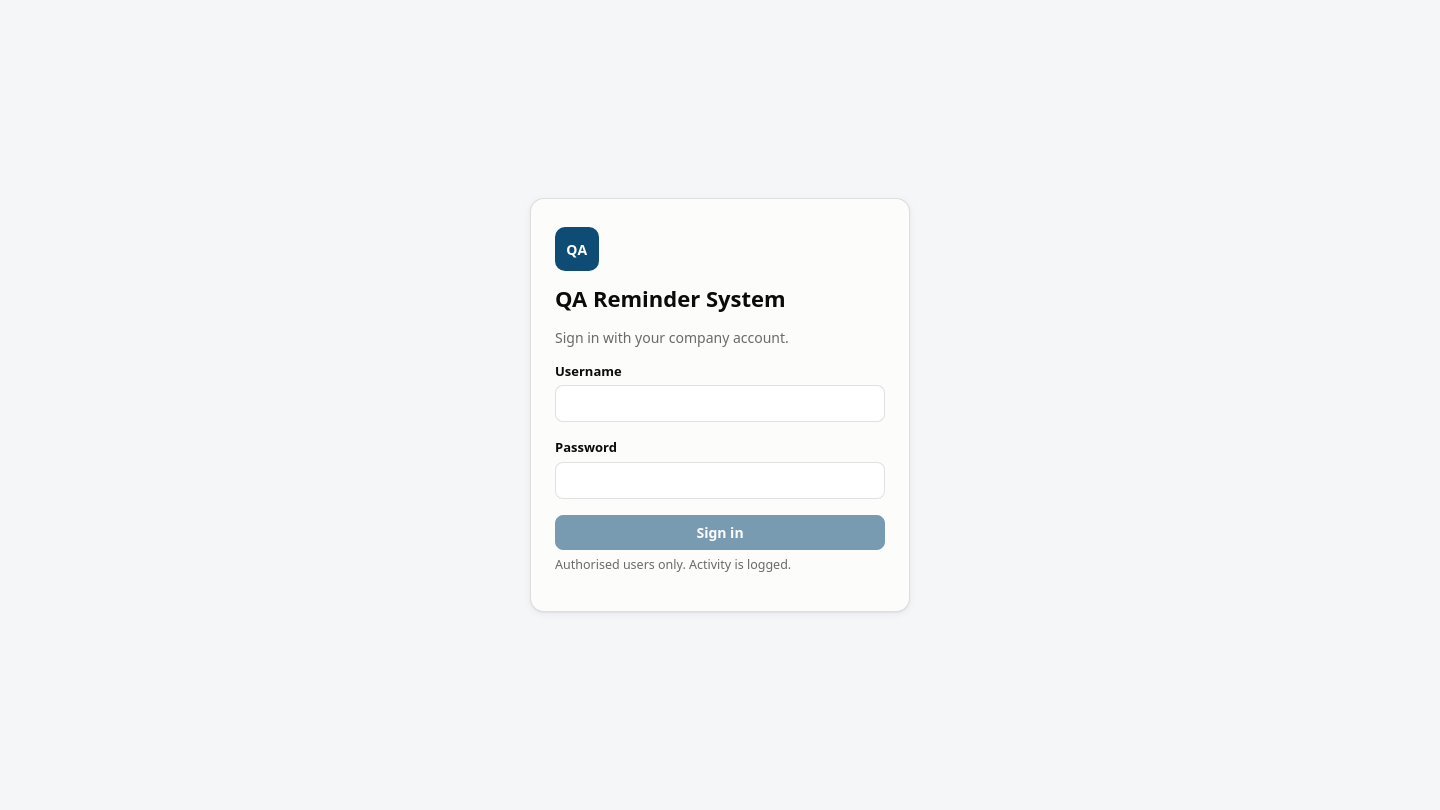
Test case: authentication flow › signs in and lands on the home page
The width and height of the screenshot is (1440, 810).
Type "viewer1" into the field labelled "Username" at (720, 404), box x1=555 y1=385 x2=885 y2=422
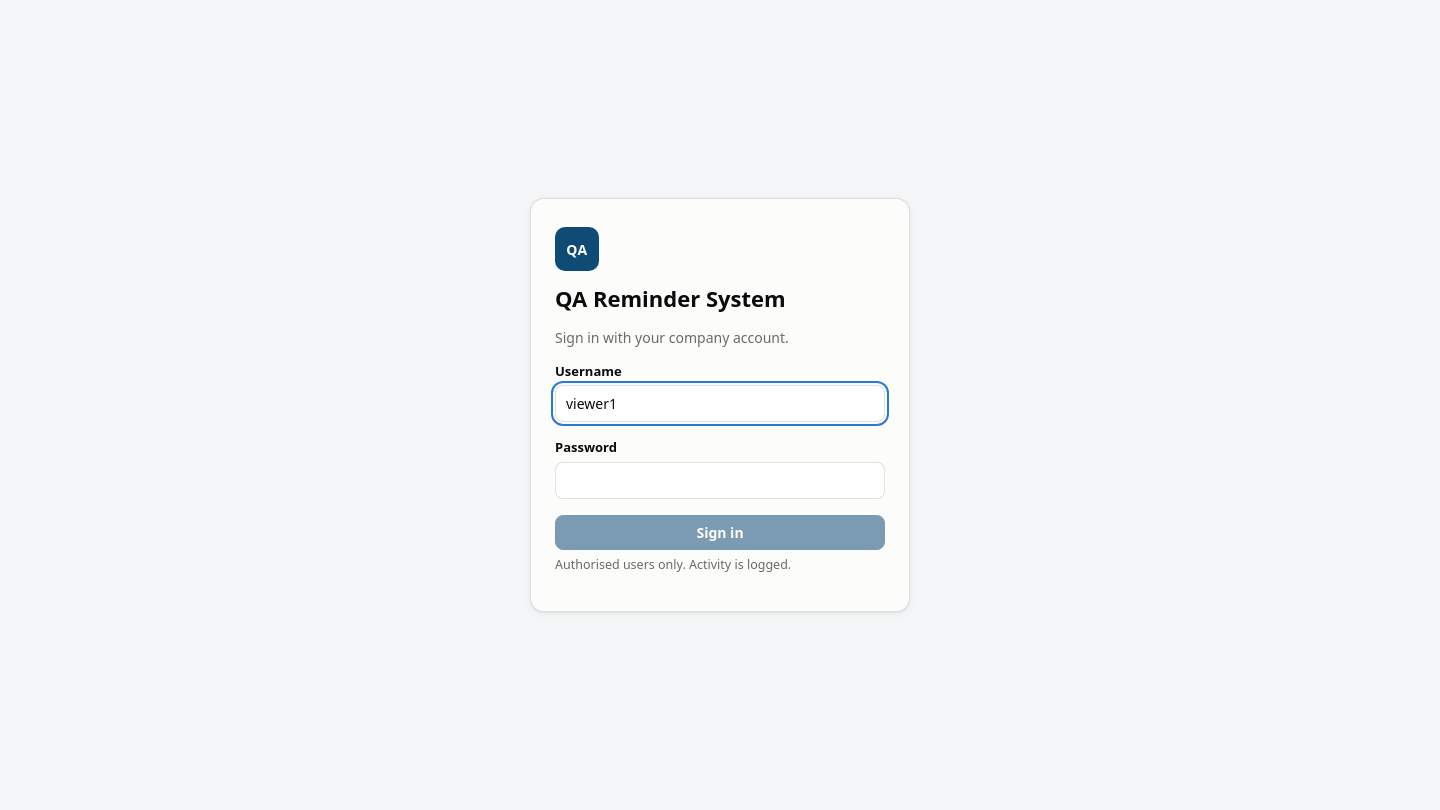
Type "good" into the password field labelled "Password" at (720, 480), box x1=555 y1=462 x2=885 y2=499
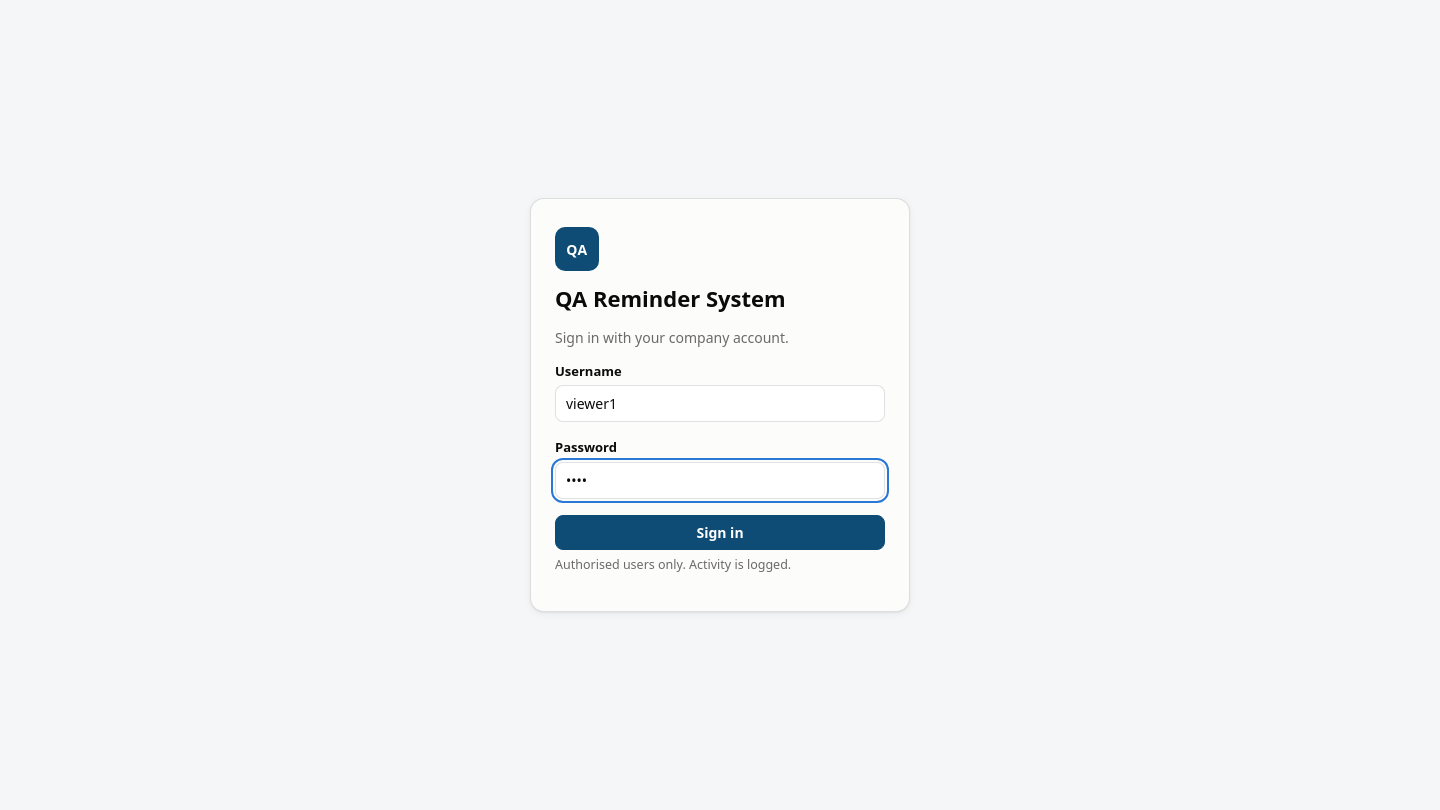
Click the button "Sign in" at (720, 532), box x1=555 y1=515 x2=885 y2=550
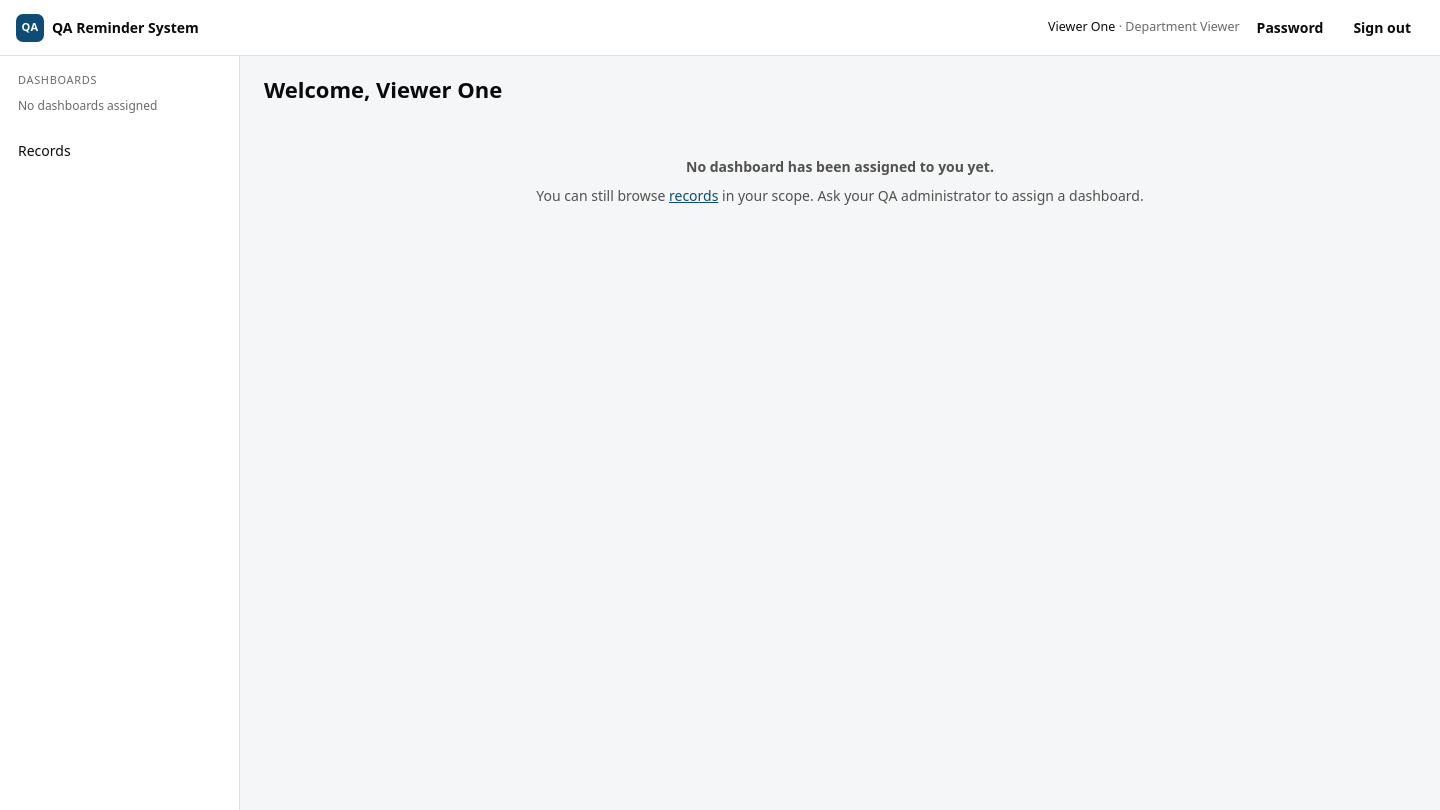
Check: the text "No dashboard has been assigned to you yet." is shown, box x1=686 y1=156 x2=994 y2=176
